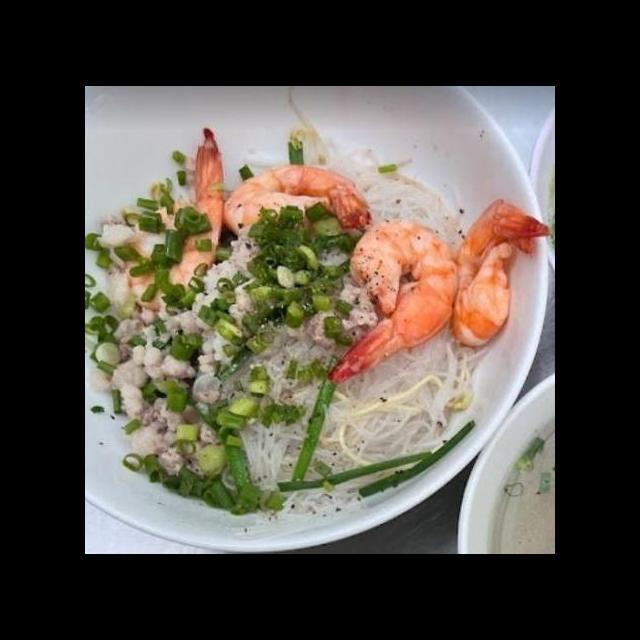banh hu tieu: (377, 325, 506, 469)
hu tieu: (86, 121, 554, 499)
thit bam: (147, 88, 420, 279), (102, 275, 253, 492), (289, 260, 392, 382)
tom: (252, 323, 422, 461), (324, 120, 517, 230), (288, 444, 444, 554), (386, 218, 479, 376)
